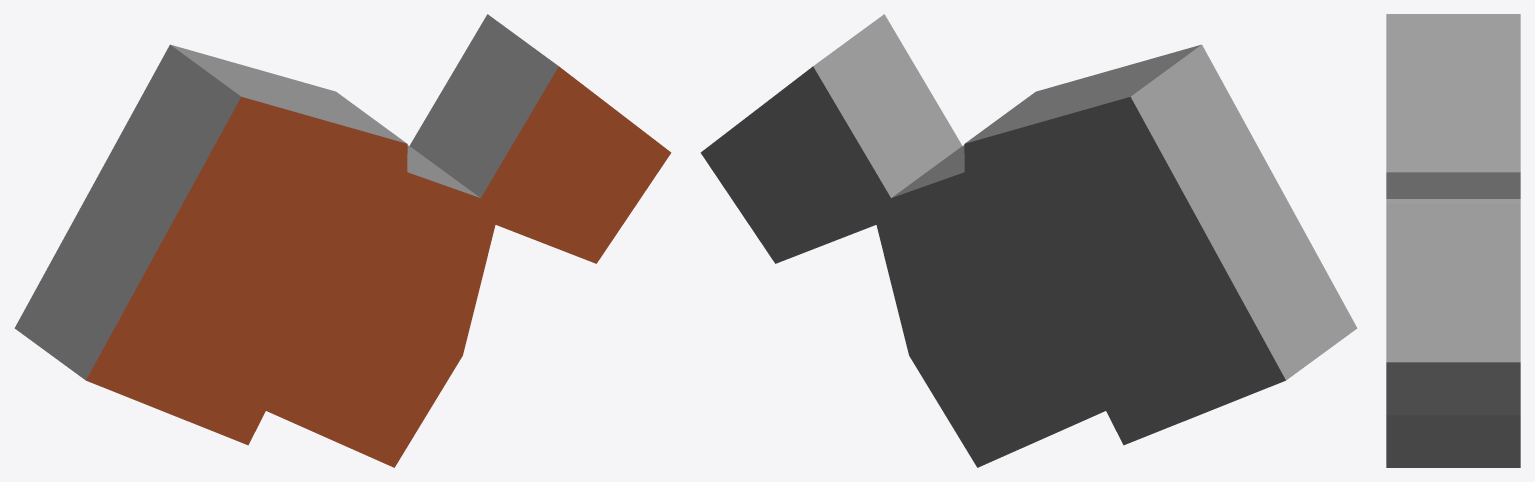
The model's file is construction_3584_assumed_A_Casa_h6m.obj.
3 renders of one model, left to right at view 1: azimuth 30°, elevation 25°; view 2: azimuth 150°, elevation 25°; view 3: azimuth 270°, elevation 25°, orthographic. The views are drawn at different scales.
Parts seen in each view (by area): view 1: construction_3584_assumed_A_Casa; view 2: construction_3584_assumed_A_Casa; view 3: construction_3584_assumed_A_Casa.
Part boxes in pixels (x1=…): construction_3584_assumed_A_Casa: x1=14, y1=14, x2=671, y2=467; construction_3584_assumed_A_Casa: x1=700, y1=14, x2=1357, y2=467; construction_3584_assumed_A_Casa: x1=1386, y1=14, x2=1520, y2=467.
Bounding box in the file's own units: 28.42 × 18.95 × 6.
